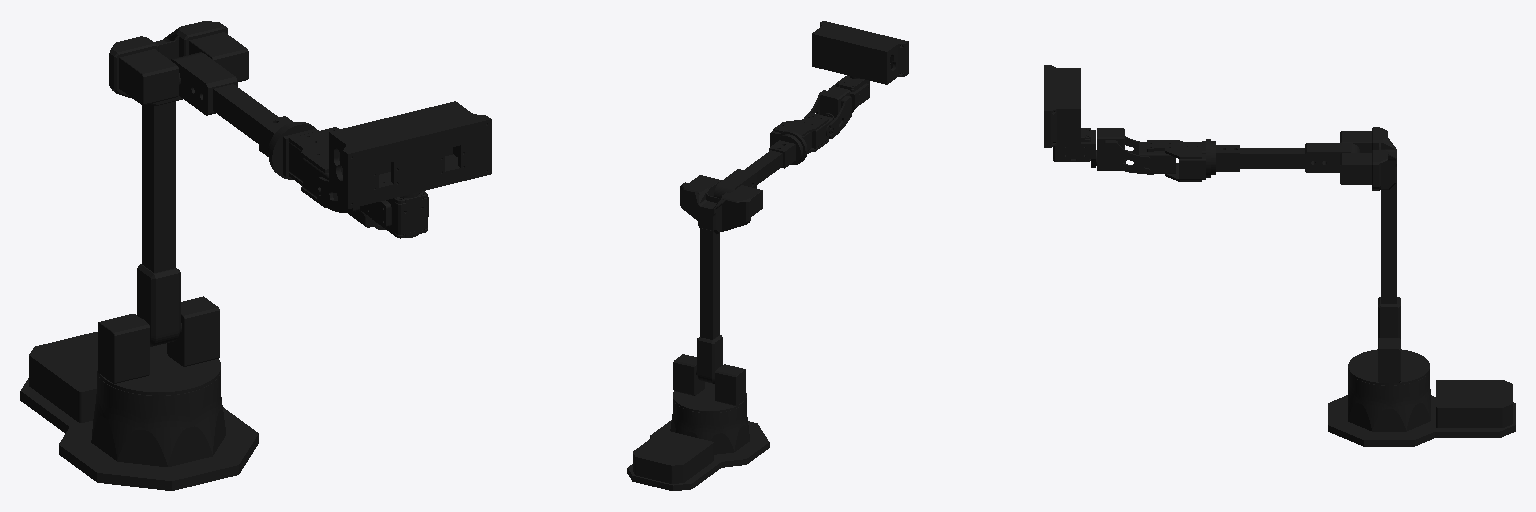
robot.urdf — giava:
<?xml version='1.0' encoding='utf-8'?>
<robot name="giava">
  <material name="black">
    <color rgba="0.15 0.15 0.15 1" />
  </material>
  <link name="base" />
  <link name="middle_base_link">
    <inertial>
      <origin xyz="2.995596892723788e-07 0.03198516362439758 0.026450259235056835" rpy="0.0 0.0 0.0" />
      <mass value="7.661178396474684" />
      <inertia ixx="0.027800482833692262" iyy="0.009179024682604394" izz="0.03118140236098089"
        ixy="-2.808668972421045e-07" iyz="0.0020733962167161805" ixz="8.3472003521601e-09" />
    </inertial>
    <visual name="middlebase_link_visual">
      <origin xyz="0.0 0.0 0.0" rpy="0.0 0.0 0.0" />
      <geometry>
        <mesh filename="wx250s_7dof_assets/middlebase_link.stl" scale="0.001 0.001 0.001" />
      </geometry>
      <material name="black">
        <color rgba="0.15 0.15 0.15 1" />
      </material>
    </visual>
    <collision name="middlebase_link_collision">
      <origin xyz="0.0 0.0 0.0" rpy="0.0 0.0 0.0" />
      <geometry>
        <mesh filename="wx250s_7dof_assets/middlebase_link.stl" scale="0.001 0.001 0.001" />
      </geometry>
    </collision>
  </link>
  <joint name="middle_base" type="revolute">
    <origin xyz="0.0 0.0 0.069" rpy="0.0 -0.0 -1.5707963267948963" />
    <limit effort="10" lower="-3.141582653589793" upper="3.141582653589793" velocity="3.141592653589793"/>
    <parent link="middle_base_link" />
    <child link="middle_shoulder_link" />
    <axis xyz="0.0 0.0 1.0" />
  </joint>
  <link name="middle_shoulder_link">
    <inertial>
      <origin xyz="2.638334412459432e-15 2.3631305677262664e-10 0.02247423507612199"
        rpy="0.0 -0.0 0.0" />
      <mass value="0.9769619250514205" />
      <inertia ixx="0.0012329397332780812" iyy="0.00044553849620255007" izz="0.001168178438916043"
        ixy="4.0263909275286546e-16" iyz="4.262703635603792e-12" ixz="3.407561607515278e-17" />
    </inertial>
    <visual name="middleshoulder_link_visual">
      <origin xyz="-5.376165772119642e-08 -5.230515132124186e-11 -1.7763568394002505e-17"
        rpy="0.0 -0.0 1.5707963267948963" />
      <geometry>
        <mesh filename="wx250s_7dof_assets/middleshoulder_link.stl" scale="0.001 0.001 0.001" />
      </geometry>
      <material name="black">
        <color rgba="0.15 0.15 0.15 1" />
      </material>
    </visual>
    <collision name="middleshoulder_link_collision">
      <origin xyz="-5.376165772119642e-08 -5.230515132124186e-11 -1.7763568394002505e-17"
        rpy="0.0 -0.0 1.5707963267948963" />
      <geometry>
        <mesh filename="wx250s_7dof_assets/middleshoulder_link.stl" scale="0.001 0.001 0.001" />
      </geometry>
    </collision>
  </link>
  <joint name="middle_shoulder" type="revolute">
    <origin xyz="0.0 0.013999999999999999 0.04125" rpy="-0.0 -1.5707963267948966 0" />
    <limit effort="20" lower="-1.8849555921538759" upper="1.9896753472735358" velocity="3.141592653589793"/>
    <parent link="middle_shoulder_link" />
    <child link="middle_upper_arm_link" />
    <axis xyz="0.0 -1.0 0.0" />
  </joint>
  <link name="middle_upper_arm_link">
    <inertial>
      <origin xyz="0.1787141203571192 -0.013999999796360843 -0.015197582064194772"
        rpy="0.0 -0.0 0.0" />
      <mass value="2.1066025697961988" />
      <inertia ixx="0.0019755776441273154" iyy="0.01788073417028957" izz="0.01825311710204519"
        ixy="-9.146787674419714e-11" iyz="-3.984354790777812e-12" ixz="0.0022302210887742216" />
    </inertial>
    <visual name="middleupper_arm_link_visual">
      <origin xyz="1.6004975122996256e-14 -0.013999999821643032 -0.00024999999999966623"
        rpy="1.5707963267948966 2.498001805406599e-16 1.5707963267948966" />
      <geometry>
        <mesh filename="wx250s_7dof_assets/middleupper_arm_link.stl" scale="0.001 0.001 0.001" />
      </geometry>
      <material name="black">
        <color rgba="0.15 0.15 0.15 1" />
      </material>
    </visual>
    <collision name="middleupper_arm_link_collision">
      <origin xyz="1.6004975122996256e-14 -0.013999999821643032 -0.00024999999999966623"
        rpy="1.5707963267948966 2.498001805406599e-16 1.5707963267948966" />
      <geometry>
        <mesh filename="wx250s_7dof_assets/middleupper_arm_link.stl" scale="0.001 0.001 0.001" />
      </geometry>
    </collision>
  </link>
  <joint name="middle_upper_arm" type="revolute">
    <origin xyz="0.25 0.0 -0.05"
      rpy="2.1791458186645653e-52 -1.4349296274686127e-42 2.8698592549372254e-42" />
    <limit effort="15" lower="-2.1467549799530254" upper="1.6057029118347832" velocity="3.141592653589793"/>
    <parent link="middle_upper_arm_link" />
    <child link="middle_upper_forearm_link" />
    <axis xyz="-2.8698592549372254e-42 -1.0 -2.1791458186645675e-52" />
  </joint>
  <link name="middle_upper_forearm_link">
    <inertial>
      <origin xyz="-8.438882420946925e-06 -0.013730493948962372 -0.07838536036114484"
        rpy="-8.236092143148846e-84 -0.0 0.0" />
      <mass value="0.8366322468319658" />
      <inertia ixx="0.002897934970778039" iyy="0.002900736625678635" izz="0.00010001910248456924"
        ixy="1.710950681011055e-08" iyz="1.0425258307323684e-05" ixz="-1.7421537257256148e-07" />
    </inertial>
    <visual name="middleupper_forearm_link_visual">
      <origin xyz="2.6005864128819668e-14 -0.013999998689142328 -1.1253220577600587e-14"
        rpy="1.5707963267948966 2.498001805406599e-16 1.5707963267948966" />
      <geometry>
        <mesh filename="wx250s_7dof_assets/middleupper_forearm_link.stl" scale="0.001 0.001 0.001" />
      </geometry>
      <material name="black">
        <color rgba="0.15 0.15 0.15 1" />
      </material>
    </visual>
    <collision name="middleupper_forearm_link_collision">
      <origin xyz="2.6005864128819668e-14 -0.013999998689142328 -1.1253220577600587e-14"
        rpy="1.5707963267948966 2.498001805406599e-16 1.5707963267948966" />
      <geometry>
        <mesh filename="wx250s_7dof_assets/middleupper_forearm_link.stl" scale="0.001 0.001 0.001" />
      </geometry>
    </collision>
  </link>
  <joint name="middle_upper_forearm" type="revolute">
    <origin xyz="0.0 -0.013499999999999998 -0.1718" rpy="1.5707963267948966 1.5707963267948966 0" />
    <limit effort="2" lower="-3.141582653589793" upper="3.141582653589793" velocity="3.141592653589793"/>
    <parent link="middle_upper_forearm_link" />
    <child link="middle_lower_forearm_link" />
    <axis xyz="1.0 -1.4349296274686127e-42 2.1791458186645653e-52" />
  </joint>
  <link name="middle_lower_forearm_link">
    <inertial>
      <origin xyz="0.0404982603993296 -8.874855694784856e-10 -0.005328579137066185"
        rpy="0.0 -0.0 0.0" />
      <mass value="0.944988061021575" />
      <inertia ixx="0.00026062482314345714" iyy="0.0008081221413995393" izz="0.0007359458494136384"
        ixy="-2.3993862452442727e-11" iyz="2.822031237165179e-12" ixz="-8.140273738317639e-05" />
    </inertial>
    <visual name="middlelower_forearm_link_visual">
      <origin xyz="1.1226575225009583e-14 4.504840944719035e-14 -2.3797511558565353e-10"
        rpy="-1.5707963267948966 1.5707963267948963 0" />
      <geometry>
        <mesh filename="wx250s_7dof_assets/middlelower_forearm_link.stl" scale="0.001 0.001 0.001" />
      </geometry>
      <material name="black">
        <color rgba="0.15 0.15 0.15 1" />
      </material>
    </visual>
    <collision name="middlelower_forearm_link_collision">
      <origin xyz="1.1226575225009583e-14 4.504840944719035e-14 -2.3797511558565353e-10"
        rpy="-1.5707963267948966 1.5707963267948963 0" />
      <geometry>
        <mesh filename="wx250s_7dof_assets/middlelower_forearm_link.stl" scale="0.001 0.001 0.001" />
      </geometry>
    </collision>
  </link>
  <joint name="middle_lower_forearm" type="revolute">
    <origin xyz="0.0782 0.0 0.019100000000000002" rpy="1.5707963267949763 -0.0 1.5707963267948966" />
    <limit effort="5" lower="-1.7453292519943295" upper="2.1467549799530254" velocity="3.141592653589793"/>
    <parent link="middle_lower_forearm_link" />
    <child link="middle_wrist_link" />
    <axis xyz="2.8698592549372254e-42 -1.0 7.97360475549766e-14" />
  </joint>
  <link name="middle_wrist_link">
    <inertial>
      <origin xyz="0.011530345426185277 -0.019000029282140393 0.04368798760668199"
        rpy="-8.236092143147533e-84 -0.0 0.0" />
      <mass value="0.469701678611065" />
      <inertia ixx="0.00013518699781263355" iyy="0.0001477207864778035" izz="0.00014032384757625644"
        ixy="3.465682320329293e-10" iyz="2.5342162627402605e-10" ixz="-9.763309799511839e-06" />
    </inertial>
    <visual name="middlewrist_link_visual">
      <origin xyz="0.36025000043051975 -0.019399997281121597 0.3000000009669968"
        rpy="-1.5707963267948966 -7.998584773551726e-14 -1.5707963267948966" />
      <geometry>
        <mesh filename="wx250s_7dof_assets/middlewrist_link.stl" scale="0.001 0.001 0.001" />
      </geometry>
      <material name="black">
        <color rgba="0.15 0.15 0.15 1" />
      </material>
    </visual>
    <collision name="middlewrist_link_collision">
      <origin xyz="0.36025000043051975 -0.019399997281121597 0.3000000009669968"
        rpy="-1.5707963267948966 -7.998584773551726e-14 -1.5707963267948966" />
      <geometry>
        <mesh filename="wx250s_7dof_assets/middlewrist_link.stl" scale="0.001 0.001 0.001" />
      </geometry>
    </collision>
  </link>
  <joint name="middle_wrist" type="revolute">
    <origin xyz="-1.7053025658242404e-15 -0.01899999999999482 0.06500000000000149"
      rpy="-1.570796326794897 -1.5707963267948128 0" />
    <limit effort="1" lower="-3.141592653589793" upper="3.141592653589793" velocity="3.141592653589793"/>
    <parent link="middle_wrist_link" />
    <child link="middle_pan_link" />
    <axis xyz="1.0 -1.4349446804892014e-42 1.6339707364920764e-13" />
  </joint>
  <link name="middle_pan_link">
    <inertial>
      <origin xyz="0.025329919807700208 0.017821842117914315 -4.549908951095583e-06"
        rpy="0.0 -4.381005590603142e-58 0.0" />
      <mass value="0.46675471997634344" />
      <inertia ixx="9.485351930116348e-05" iyy="0.0001547509363231947" izz="0.00015126639940910014"
        ixy="-9.708776182587586e-06" iyz="3.4408482444111664e-08" ixz="3.871552383401069e-08" />
    </inertial>
    <visual name="middlepan_link_visual">
      <origin xyz="0.34125000096699404 0.32350000043052896 -0.00039999513542135755"
        rpy="-1.5707963267948966 -1.5707963267948963 0" />
      <geometry>
        <mesh filename="wx250s_7dof_assets/middlepan_link.stl" scale="0.001 0.001 0.001" />
      </geometry>
      <material name="black">
        <color rgba="0.15 0.15 0.15 1" />
      </material>
    </visual>
    <collision name="middlepan_link_collision">
      <origin xyz="0.34125000096699404 0.32350000043052896 -0.00039999513542135755"
        rpy="-1.5707963267948966 -1.5707963267948963 0" />
      <geometry>
        <mesh filename="wx250s_7dof_assets/middlepan_link.stl" scale="0.001 0.001 0.001" />
      </geometry>
    </collision>
  </link>
  <joint name="middle_pan" type="revolute">
    <origin xyz="0.04125 0.03725000000000001 1.1379786002407855e-17"
      rpy="-1.5707963267948963 2.5199808612277694e-29 -1.4272358353620772e-42" />
    <limit effort="1" lower="-3.141592653589793" upper="3.141592653589793" velocity="3.141592653589793"/>
    <parent link="middle_pan_link" />
    <child link="middle_camera" />
    <axis xyz="0.0 -6.162975822039155e-33 1.0" />
  </joint>
  <link name="middle_camera">
    <inertial>
      <origin xyz="4.0500935938325715e-15 0.006497257878323726 0.0057880926283914395"
        rpy="0.0 -0.0 0.0" />
      <mass value="0.04595740741006651" />
      <inertia ixx="1.08823503897253e-05" iyy="1.414667404333117e-06" izz="1.1636708137374892e-05"
        ixy="-2.7105054312137575e-20" iyz="-3.5278247428562797e-07" ixz="-8.907444352639143e-36" />
    </inertial>
    <visual name="middlecamera_visual">
      <origin xyz="-0.10624999903300911 -2.956839865939087e-09 -0.03724999956953639"
        rpy="1.7104575659878705e-16 -6.162975822039155e-33 1.5707963267948963" />
      <geometry>
        <mesh filename="wx250s_7dof_assets/middlecamera.stl" scale="0.001 0.001 0.001" />
      </geometry>
      <material name="black">
        <color rgba="0.15 0.15 0.15 1" />
      </material>
    </visual>
    <collision name="middlecamera_collision">
      <origin xyz="-0.10624999903300911 -2.956839865939087e-09 -0.03724999956953639"
        rpy="1.7104575659878705e-16 -6.162975822039155e-33 1.5707963267948963" />
      <geometry>
        <mesh filename="wx250s_7dof_assets/middlecamera.stl" scale="0.001 0.001 0.001" />
      </geometry>
    </collision>
  </link> 
  <joint name="base_middle_base_link_fixed" type="fixed">
    <parent link="base" />
    <child link="middle_base_link" />
    <origin xyz="-0.0 0.4 0.020000" rpy="0.000000 0.000000 0.000000" />
  </joint>
  <link name="middle_camera_body">
    <inertial>
      <origin xyz="-0.017 -0.055 0.02" rpy="0.0 0.0 1.5708"/>
      <mass value="0.04595740741006651" />
      <inertia ixx="0.0" iyy="0.0" izz="0.0"
        ixy="0.0" iyz="0.0" ixz="0.0" />
    </inertial>
    <visual>
      <origin xyz="-0.017 -0.055 0.02" rpy="0.0 0.0 1.5708"/>
      <geometry>
        <mesh filename="interbotix_ws/src/wx250s_7dof_description/meshes/camera_body.stl" scale="0.001 0.001 0.001"/>
      </geometry>
      <material name="black"/>
    </visual>
    <collision>
      <origin xyz="-0.017 -0.055 0.02" rpy="0.0 0.0 1.5708"/>
      <geometry>
        <mesh filename="interbotix_ws/src/wx250s_7dof_description/meshes/camera_body.stl" scale="0.001 0.001 0.001"/>
      </geometry>
    </collision>
  </link>
  <joint name="middle_camera_body_fixed" type="fixed">
    <parent link="middle_camera"/>
    <child link="middle_camera_body"/>
    <origin xyz="0.0 0.0 0.0" rpy="0.0 0.0 0.0"/>
  </joint>
  <link name="middle_camera_cover">
    <inertial>
      <origin xyz="-0.017 -0.055 0.02" rpy="0.0 0.0 1.5708"/>
      <mass value="0.04595740741006651" />
      <inertia ixx="0.0" iyy="0.0" izz="0.0"
        ixy="0.0" iyz="0.0" ixz="0.0" />
    </inertial>
    <visual>
      <origin xyz="-0.017 -0.055 0.02" rpy="0.0 0.0 1.5708"/>
      <geometry>
        <mesh filename="interbotix_ws/src/wx250s_7dof_description/meshes/camera_cover.stl" scale="0.001 0.001 0.001"/>
      </geometry>
      <material name="black"/>
    </visual>
    <collision>
      <origin xyz="-0.017 -0.055 0.02" rpy="0.0 0.0 1.5708"/>
      <geometry>
        <mesh filename="interbotix_ws/src/wx250s_7dof_description/meshes/camera_cover.stl" scale="0.001 0.001 0.001"/>
      </geometry>
    </collision>
  </link>
  <joint name="middle_camera_cover_fixed" type="fixed">
    <parent link="middle_camera"/>
    <child link="middle_camera_cover"/>
    <origin xyz="0.0 0.0 0.0" rpy="0.0 0.0 0.0"/>
  </joint>
</robot>

--- What the picture shows (computed from the rendered views, not written in the file) ---
Views: 3 orthographic renders of the robot side by side, from view 1: azimuth 30°, elevation 25°; view 2: azimuth 150°, elevation 25°; view 3: azimuth 270°, elevation 25°.
Model giava with 11 links and 10 joints (7 revolute, 3 fixed), rooted at base, posed all joints at 0.
Visible links, largest first — view 1: middle_base_link, middle_upper_arm_link, middle_shoulder_link, middle_camera_cover, middle_upper_forearm_link, middle_camera_body, middle_lower_forearm_link, middle_pan_link, middle_wrist_link; view 2: middle_base_link, middle_upper_arm_link, middle_camera_body, middle_shoulder_link, middle_upper_forearm_link, middle_lower_forearm_link, middle_wrist_link, middle_pan_link; view 3: middle_base_link, middle_upper_arm_link, middle_upper_forearm_link, middle_shoulder_link, middle_lower_forearm_link, middle_camera_body, middle_wrist_link, middle_pan_link.
Boxes of the visible links, <box> form: middle_base_link: <box>20,332,258,490</box>; middle_upper_arm_link: <box>109,21,248,346</box>; middle_shoulder_link: <box>97,296,220,395</box>; middle_camera_cover: <box>345,117,491,208</box>; middle_upper_forearm_link: <box>171,52,294,156</box>; middle_camera_body: <box>329,101,487,206</box>; middle_lower_forearm_link: <box>269,122,338,207</box>; middle_pan_link: <box>360,191,428,238</box>; middle_wrist_link: <box>317,177,373,227</box>; middle_base_link: <box>627,400,769,490</box>; middle_upper_arm_link: <box>680,175,762,383</box>; middle_camera_body: <box>812,22,906,84</box>; middle_shoulder_link: <box>673,354,746,412</box>; middle_upper_forearm_link: <box>714,134,802,197</box>; middle_lower_forearm_link: <box>770,113,833,164</box>; middle_wrist_link: <box>804,86,851,138</box>; middle_pan_link: <box>829,75,869,112</box>; middle_base_link: <box>1328,371,1515,446</box>; middle_upper_arm_link: <box>1340,127,1400,338</box>; middle_upper_forearm_link: <box>1211,141,1360,174</box>; middle_shoulder_link: <box>1348,338,1429,385</box>; middle_lower_forearm_link: <box>1139,139,1210,181</box>; middle_camera_body: <box>1049,65,1080,147</box>; middle_wrist_link: <box>1096,128,1150,173</box>; middle_pan_link: <box>1053,128,1095,167</box>.
Size in the robot's own frame: 0.1531 by 0.5855 by 0.4556 metres.
10 mesh visuals loaded from 10 distinct referenced files (10 binary STL).
